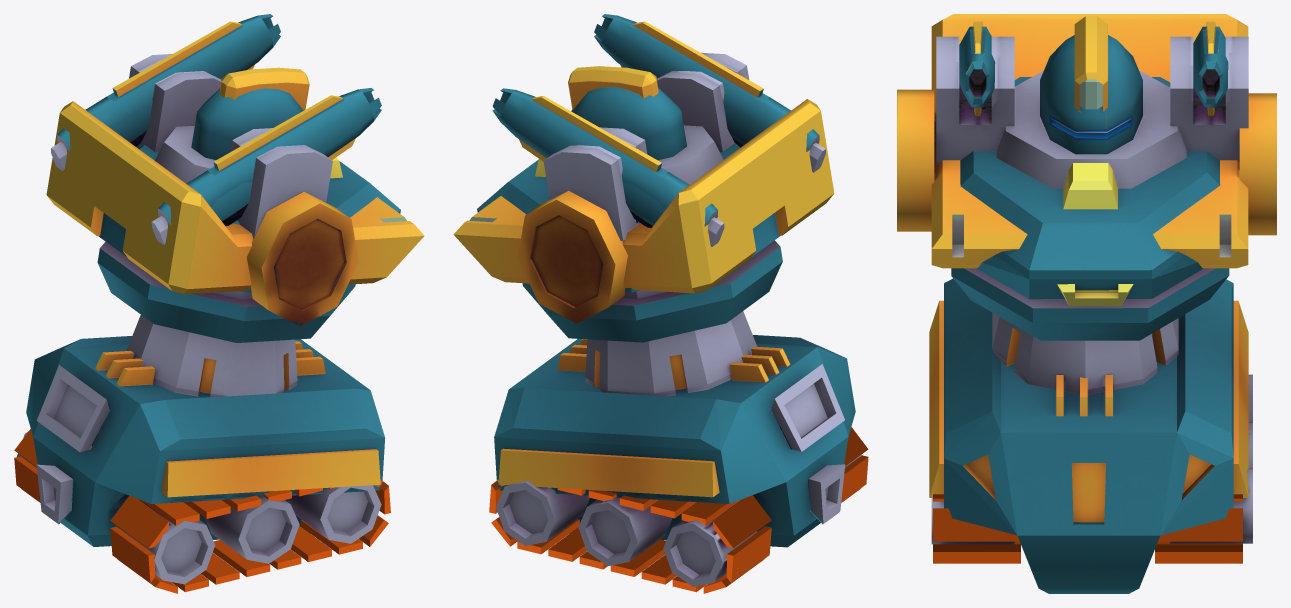
The model's file is Player_Move4.obj.
3 views of the same model, side by side, from view 1: azimuth 30°, elevation 25°; view 2: azimuth 150°, elevation 25°; view 3: azimuth 270°, elevation 25° (orthographic). The views are drawn at different scales.
Parts seen in each view (by area): view 1: Object004, Object014, Box009, Box017, Box016; view 2: Object004, Object014, Box009, Box016, Box017; view 3: Object004, Object014, Box016, Box017, Box009.
Part boxes in pixels (<box>): Object004: <box>26,54,424,546</box>; Object014: <box>51,14,381,245</box>; Box009: <box>16,431,381,584</box>; Box017: <box>110,479,390,593</box>; Box016: <box>14,429,91,502</box>; Object004: <box>453,52,855,547</box>; Object014: <box>492,14,825,246</box>; Box009: <box>496,454,861,586</box>; Box016: <box>489,479,771,593</box>; Box017: <box>841,427,868,502</box>; Object004: <box>897,14,1276,593</box>; Object014: <box>959,21,1228,116</box>; Box016: <box>1155,494,1242,563</box>; Box017: <box>933,494,1020,563</box>; Box009: <box>931,374,1252,544</box>.
Size of the model in its own units: 60.24 by 82.06 by 52.49.
